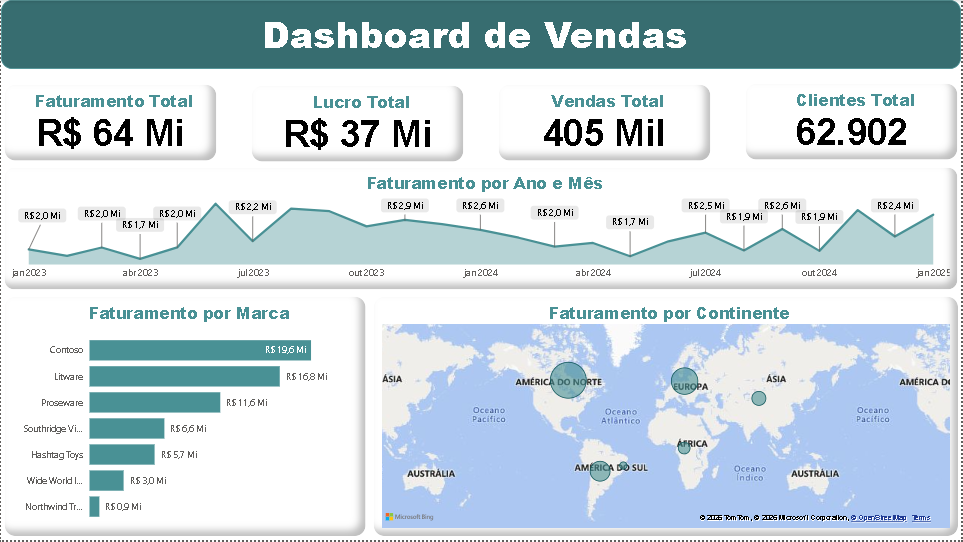

This screenshot's page, from the dashboard's own definition file:
{"tool":"powerbi","page":{"name":"Página 1","canvas":[1280,720],"ordinal":0},"visuals":[{"type":"textbox","box":[0,0,1280,92.4],"z":0},{"type":"cardVisual","title":"Faturamento Total","fields":{"Data":["Sum(Vendas.Faturamento)"]},"box":[0,107.4,291.8,111.5],"z":1000},{"type":"cardVisual","title":"Vendas Total","fields":{"Data":["Sum(Vendas.Qtd. Vendida)"]},"box":[658.7,107.4,291.8,111.5],"z":2000},{"type":"cardVisual","title":"Lucro Total","fields":{"Data":["Sum(Vendas.Lucro Venda)"]},"box":[329.3,109.3,292,110.7],"z":3000},{"type":"cardVisual","title":"Clientes Total","fields":{"Data":["Count(Vendas.Codigo Cliente)"]},"box":[988,106.7,292,110.7],"z":4000},{"type":"barChart","fields":{"Category":["Vendas.Marca"],"Y":["Sum(Vendas.Faturamento)"]},"box":[0,390.9,491.4,328.9],"z":5000},{"type":"areaChart","fields":{"Y":["Sum(Vendas.Faturamento)"],"Category":["Vendas.Data da Venda.Variation.Hierarquia de datas.Ano","Vendas.Data da Venda.Variation.Hierarquia de datas.Mês"]},"box":[0,218.8,1280,172],"z":6000},{"type":"map","fields":{"Category":["Vendas.Continente"],"Size":["Sum(Vendas.Faturamento)"]},"box":[491.4,390.9,788.6,328.9],"z":7000}]}

Visuals, with their boxes in screenshot pixels (x1, y1, x2, y2), scaled from the page's 1280x720 canvas onto the 963x542 screenshot:
textbox: 0:0:962:70
"Faturamento Total" cardVisual: 0:81:220:165
"Vendas Total" cardVisual: 496:81:715:165
"Lucro Total" cardVisual: 248:82:467:166
"Clientes Total" cardVisual: 743:80:962:164
barChart - Vendas.Marca x Sum(Vendas.Faturamento): 0:294:370:541
areaChart - Sum(Vendas.Faturamento) x Vendas.Data da Venda.Variation.Hierarquia de datas.Ano: 0:165:962:294
map - Vendas.Continente x Sum(Vendas.Faturamento): 370:294:962:541
